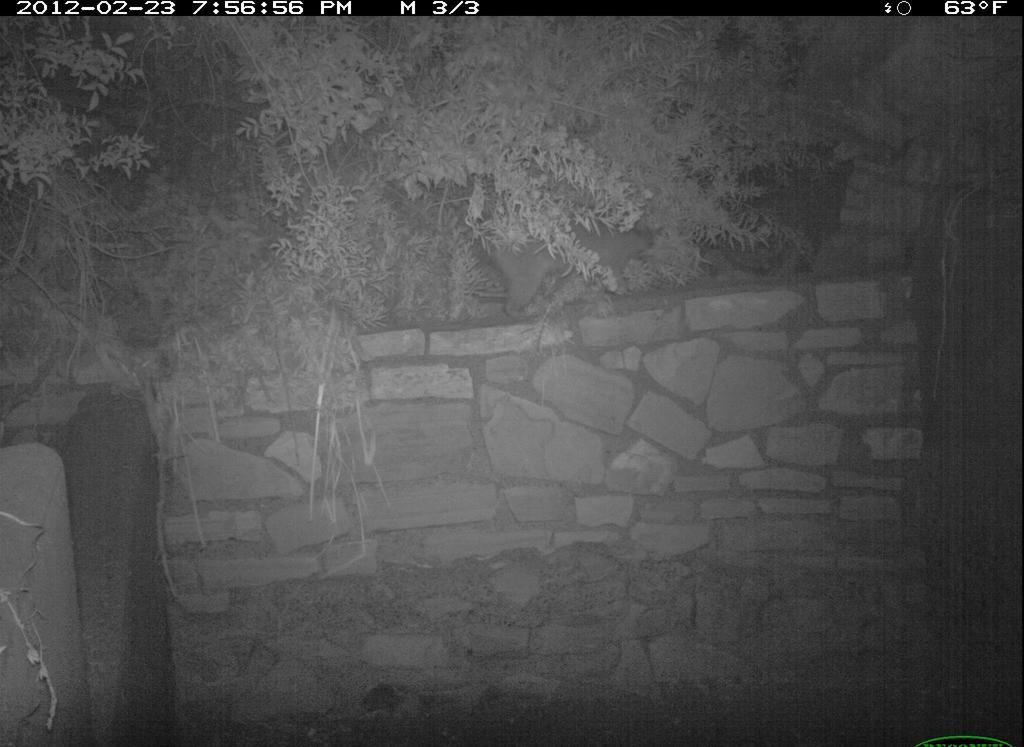raccoon: (463, 196, 666, 331)
